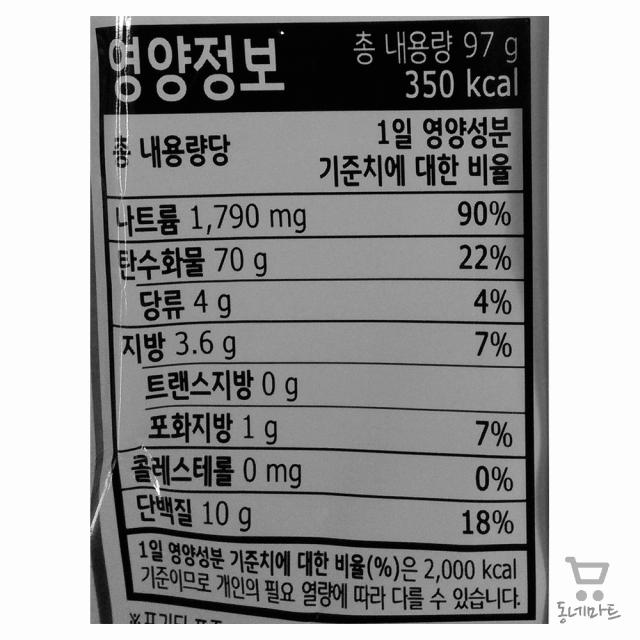Nutrition Label: (91, 18, 544, 629)
